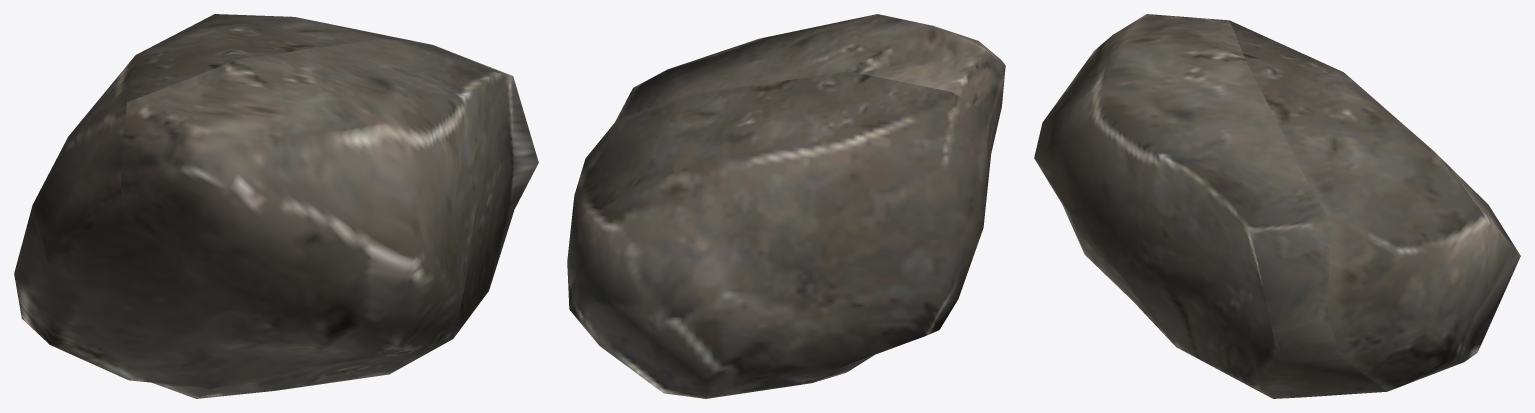
The model's file is SC_HDstone04.FBX.
3 renders of one model, left to right at view 1: azimuth 30°, elevation 25°; view 2: azimuth 150°, elevation 25°; view 3: azimuth 270°, elevation 25°, orthographic. The views are drawn at different scales.
Parts seen in each view (by area): view 1: SC_HDstone04; view 2: SC_HDstone04; view 3: SC_HDstone04.
Boxes of the visible parts, <box> form: SC_HDstone04: <box>14,14,538,398</box>; SC_HDstone04: <box>567,14,1005,398</box>; SC_HDstone04: <box>1034,14,1520,398</box>.
Bounding box in the file's own units: 1.33 × 0.8822 × 1.46.
